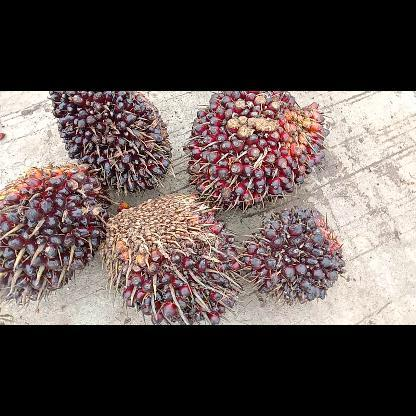TBS mentah: (100, 194, 242, 324), (183, 91, 328, 211), (0, 164, 110, 306), (48, 91, 174, 193), (239, 209, 344, 304)
